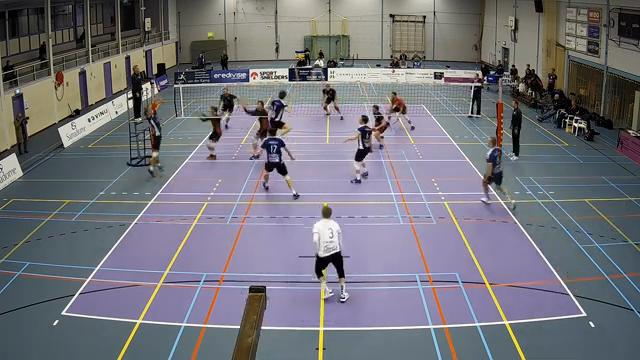Attack: (136, 100, 171, 180)
Player: (313, 204, 348, 302), (261, 127, 299, 199), (481, 137, 515, 209), (345, 115, 372, 183), (243, 101, 268, 159), (200, 106, 221, 159), (268, 90, 291, 135), (388, 92, 414, 130), (322, 84, 343, 119), (372, 105, 388, 148), (219, 88, 236, 128)
ball: (207, 32, 214, 40)
